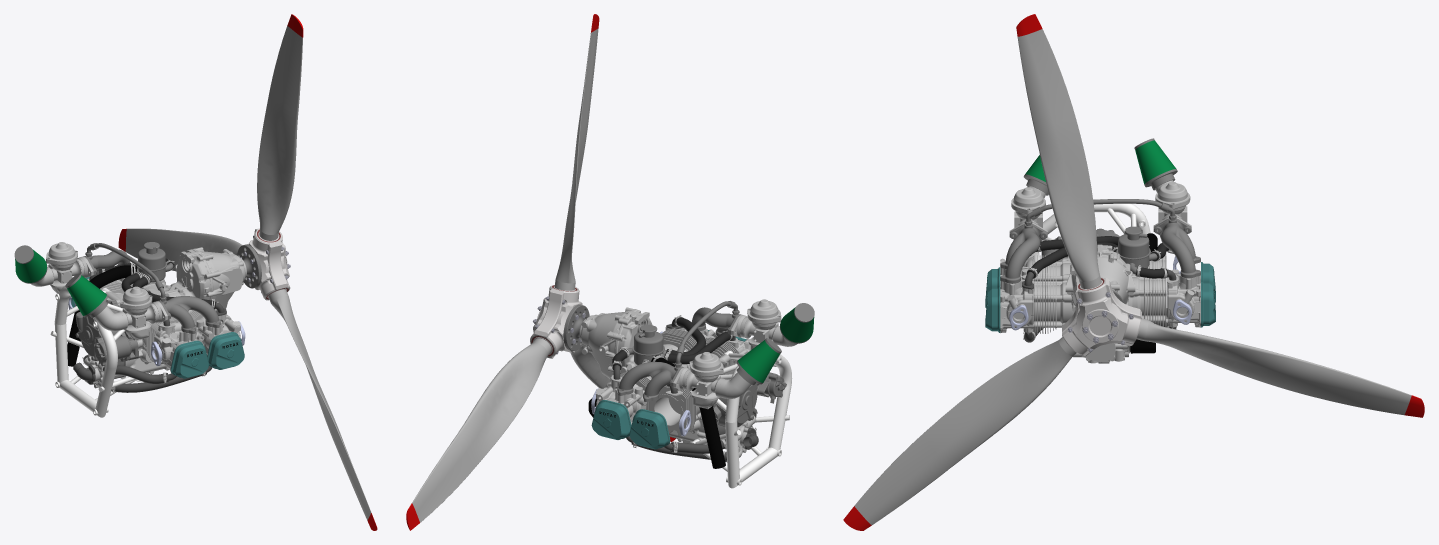
The model's file is model_web.glb.
3 renders of one model, left to right at view 1: azimuth 30°, elevation 25°; view 2: azimuth 150°, elevation 25°; view 3: azimuth 270°, elevation 25°, orthographic. The views are drawn at different scales.
Visible parts, largest first — view 1: PALE HELICE <lop-lop:1> (×3), CARTER CYLINDRE DROIT <377>, CARTER REDUCTEUR <135>, CARBURATEUR DROIT <193>, CARBURATEUR GAUCHE <401>, TUBULURE ADMISSION 1-3 <409>, CACHE CULBUTEUR CYL 3 <537>, FILTRE A AIR DROIT <5144>, CACHE CULBUTEUR CYL 1 <265>, DEMI COQUILE HELICE <B9120100005-10:2>, CARTER ALTERNATEUR <161>, CULASSE CYLINDRE N°3 <233> (+15 smaller); view 2: PALE HELICE <lop-lop:1> (×3), CARTER REDUCTEUR <135>, CARBURATEUR GAUCHE <401>, TUBULURE ADMISSION 2-4 <577>, CARBURATEUR DROIT <193>, CARTER CYLINDRE GAUCHE <481>, CACHE CULBUTEUR CYL 4 <273>, FILTRE A AIR GAUCHE <457>, CACHE CULBUTEUR CYL 2 <497>, DEMI COQUILE HELICE <B9120100005-10:2>, CYLINDRE N° 4 <473>, CARTER ALTERNATEUR <161> (+14 smaller); view 3: PALE HELICE <lop-lop:1> (×3), DEMI COQUILE HELICE <B9120100005-10:1>, TUBULURE ADMISSION 1-3 <409>, TUBULURE ADMISSION 2-4 <577>, CYLINDRE N° 1 <393>, CARTER REDUCTEUR <135>, CULASSE CYLINDRE N°1 <225>, CULASSE CYLINDRE N°2 <465>, FILTRE A AIR GAUCHE <457>, CYLINDRE N° 2 <281>, CARBURATEUR GAUCHE <401>, CARBURATEUR DROIT <193> (+3 smaller).
Part boxes in pixels (left/top/right/bottom): PALE HELICE <lop-lop:1> (×3): left=118, top=14, right=377, bottom=530; CARTER CYLINDRE DROIT <377>: left=116, top=251, right=213, bottom=378; CARTER REDUCTEUR <135>: left=194, top=247, right=246, bottom=308; CARBURATEUR DROIT <193>: left=119, top=286, right=167, bottom=340; CARBURATEUR GAUCHE <401>: left=46, top=242, right=93, bottom=293; TUBULURE ADMISSION 1-3 <409>: left=155, top=279, right=220, bottom=333; CACHE CULBUTEUR CYL 3 <537>: left=170, top=340, right=209, bottom=378; FILTRE A AIR DROIT <5144>: left=65, top=273, right=107, bottom=317; CACHE CULBUTEUR CYL 1 <265>: left=207, top=332, right=244, bottom=369; DEMI COQUILE HELICE <B9120100005-10:2>: left=241, top=228, right=281, bottom=300; CARTER ALTERNATEUR <161>: left=75, top=300, right=138, bottom=378; CULASSE CYLINDRE N°3 <233>: left=154, top=322, right=204, bottom=371; PALE HELICE <lop-lop:1> (×3): left=406, top=14, right=675, bottom=530; CARTER REDUCTEUR <135>: left=579, top=307, right=635, bottom=379; CARBURATEUR GAUCHE <401>: left=673, top=352, right=724, bottom=409; TUBULURE ADMISSION 2-4 <577>: left=617, top=343, right=684, bottom=401; CARBURATEUR DROIT <193>: left=731, top=299, right=781, bottom=349; CARTER CYLINDRE GAUCHE <481>: left=616, top=312, right=706, bottom=443; CACHE CULBUTEUR CYL 4 <273>: left=629, top=409, right=670, bottom=449; FILTRE A AIR GAUCHE <457>: left=736, top=338, right=781, bottom=384; CACHE CULBUTEUR CYL 2 <497>: left=591, top=400, right=631, bottom=439; DEMI COQUILE HELICE <B9120100005-10:2>: left=540, top=287, right=582, bottom=358; CYLINDRE N° 4 <473>: left=649, top=385, right=699, bottom=436; CARTER ALTERNATEUR <161>: left=713, top=361, right=769, bottom=449; PALE HELICE <lop-lop:1> (×3): left=843, top=14, right=1424, bottom=530; DEMI COQUILE HELICE <B9120100005-10:1>: left=1062, top=281, right=1141, bottom=355; TUBULURE ADMISSION 1-3 <409>: left=1000, top=206, right=1047, bottom=283; TUBULURE ADMISSION 2-4 <577>: left=1153, top=202, right=1200, bottom=278; CYLINDRE N° 1 <393>: left=1034, top=275, right=1064, bottom=333; CARTER REDUCTEUR <135>: left=1065, top=251, right=1135, bottom=311; CULASSE CYLINDRE N°1 <225>: left=1000, top=275, right=1033, bottom=334; CULASSE CYLINDRE N°2 <465>: left=1167, top=269, right=1200, bottom=328; FILTRE A AIR GAUCHE <457>: left=1134, top=138, right=1177, bottom=190; CYLINDRE N° 2 <281>: left=1136, top=276, right=1166, bottom=327; CARBURATEUR GAUCHE <401>: left=1153, top=181, right=1191, bottom=238; CARBURATEUR DROIT <193>: left=1009, top=187, right=1047, bottom=241.
Size of the model in its own units: 0.799 by 1.42 by 1.45.
